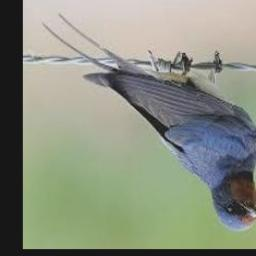Swallow: (41, 13, 256, 231)
